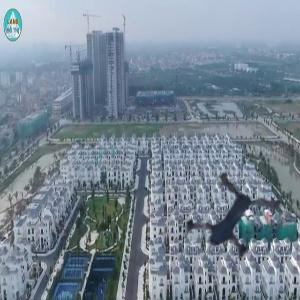drone: (173, 162, 292, 281)
